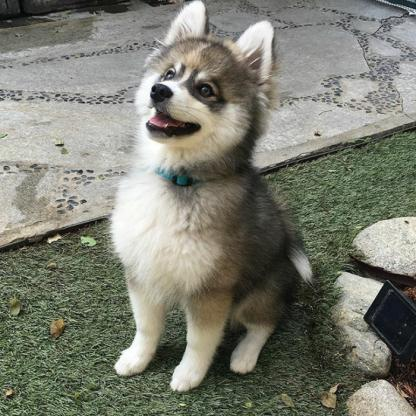husky: (108, 0, 312, 390)
